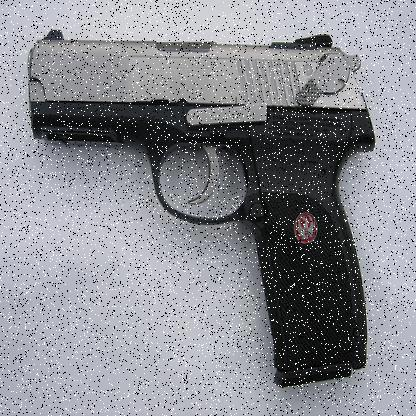pistol: (27, 27, 372, 389)
